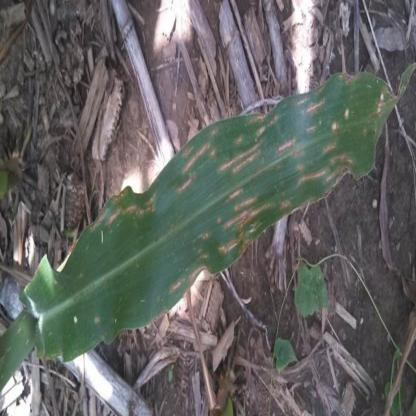Corn leaf blight: (66, 67, 407, 347)
